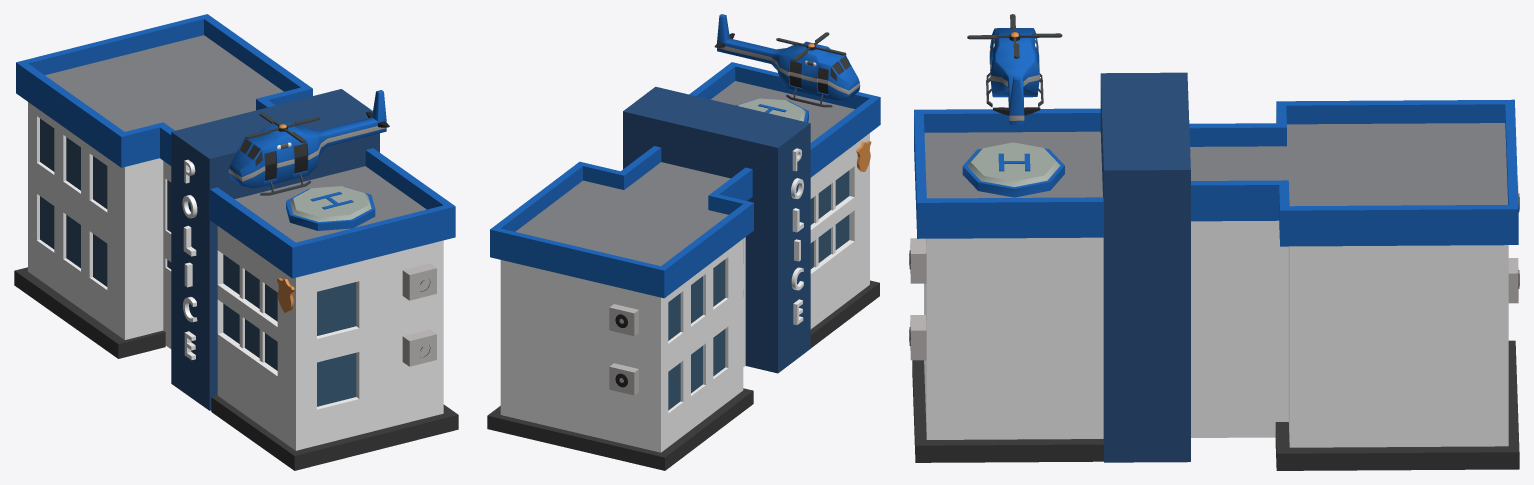
Rendered from police.glb.
3 views of the same model, side by side, from view 1: azimuth 30°, elevation 25°; view 2: azimuth 150°, elevation 25°; view 3: azimuth 270°, elevation 25° (orthographic). The views are drawn at different scales.
Parts seen in each view (by area): view 1: Police_Station_1_Color_Palette_0, Helicopter_2_Color_Palette_0; view 2: Police_Station_1_Color_Palette_0, Helicopter_2_Color_Palette_0; view 3: Police_Station_1_Color_Palette_0, Helicopter_2_Color_Palette_0.
Boxes of the visible parts, x1,y1,x2,y2 form: Police_Station_1_Color_Palette_0: (14,14,458,470); Helicopter_2_Color_Palette_0: (228,90,389,195); Police_Station_1_Color_Palette_0: (487,62,880,470); Helicopter_2_Color_Palette_0: (714,14,860,107); Police_Station_1_Color_Palette_0: (909,72,1519,470); Helicopter_2_Color_Palette_0: (967,14,1062,125).
Size of the model in its own units: 1.34 by 2.02 by 3.06.
Materials: 1 (1 with a texture image).
